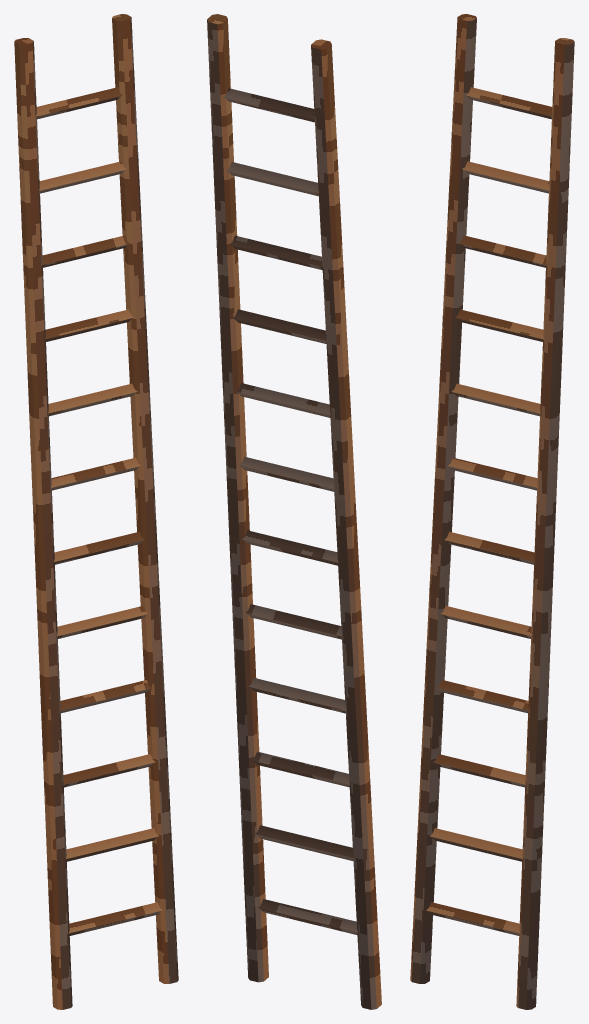
The model's file is wmine.ladder__tall.glb.
3 views of the same model, side by side, from view 1: azimuth 30°, elevation 25°; view 2: azimuth 150°, elevation 25°; view 3: azimuth 330°, elevation 25° (orthographic). The views are drawn at different scales.
Visible parts, largest first — view 1: kit_poles, kit_rungs; view 2: kit_poles, kit_rungs; view 3: kit_poles, kit_rungs.
Boxes of the visible parts, x1,y1,x2,y2 form: kit_poles: (14,14,178,1009); kit_rungs: (24,87,162,935); kit_poles: (207,14,381,1009); kit_rungs: (223,88,357,934); kit_poles: (410,14,574,1009); kit_rungs: (426,87,564,935).
Bounding box in the file's own units: 0.57 × 4.21 × 0.4198.
2 materials, 2 textured.
